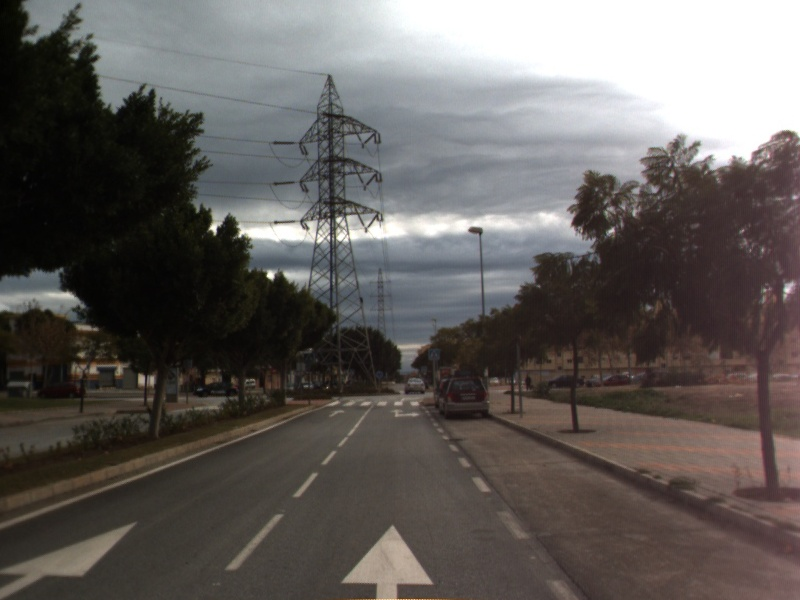STRAIGHT: (1, 518, 140, 600), (337, 521, 438, 600), (326, 407, 347, 419)
STRAIGHT_RIGHT: (388, 407, 423, 419)
